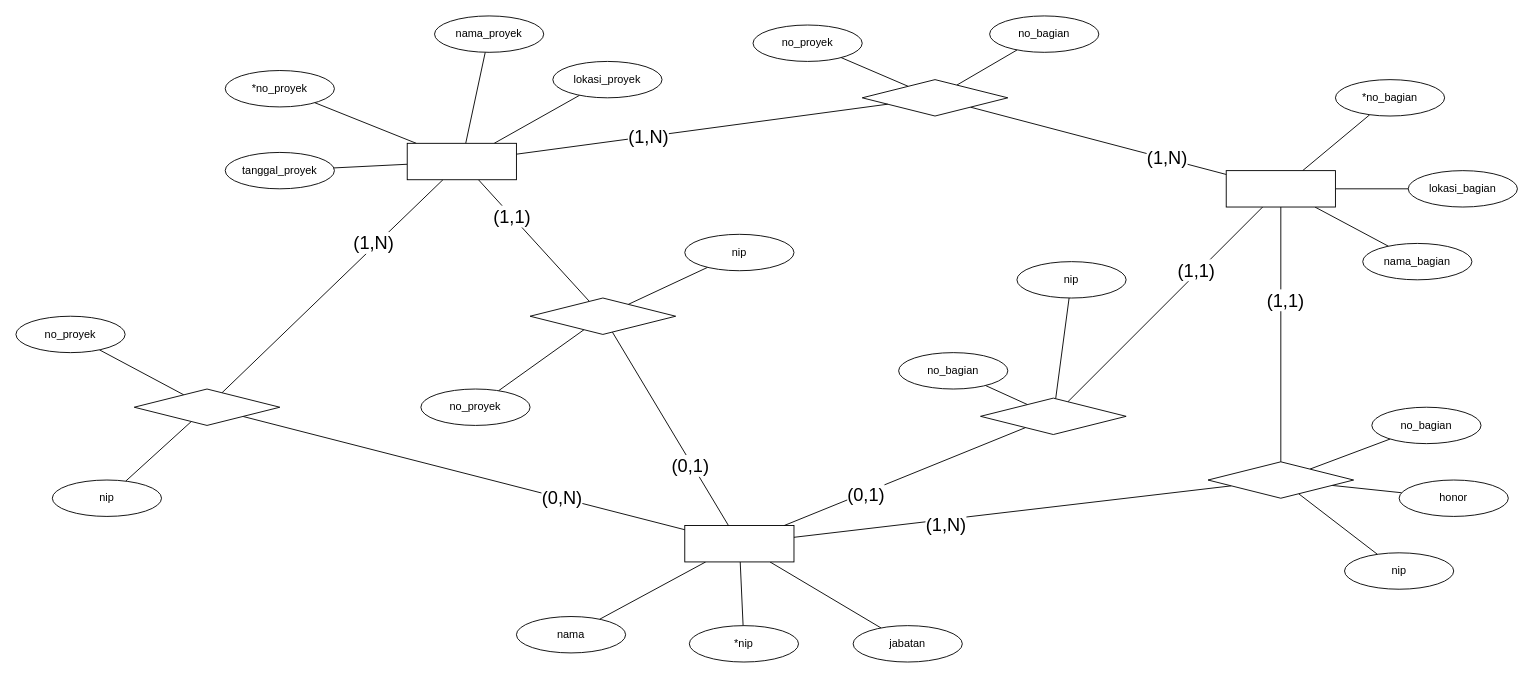
Image size: 1533x678. Some labels were removed from this diagram. Here are the shapes that lost their labels. From the top down, the box of each, then its label:
(861, 79, 1008, 116): menangani
(406, 142, 516, 180): Proyek
(1225, 170, 1335, 207): bagian
(529, 297, 676, 334): memimpin
(133, 388, 280, 425): di kerjakan
(980, 397, 1126, 435): mengepalai
(1207, 461, 1354, 498): berada di
(684, 525, 794, 562): Pegawai
